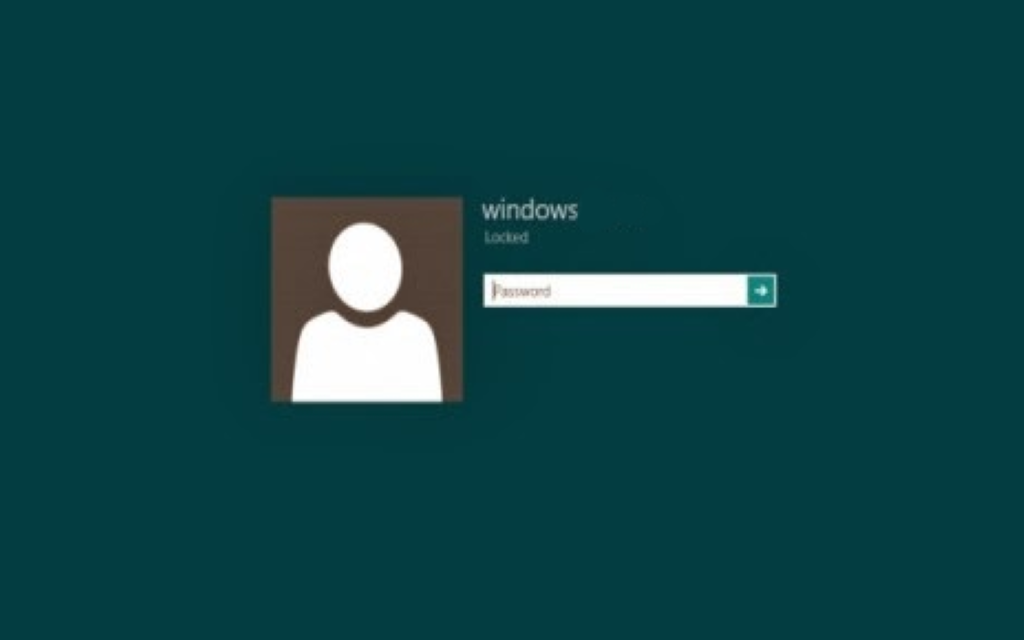textbox: (484, 273, 748, 308)
